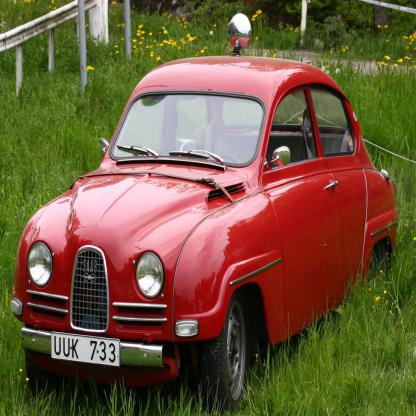Car: (10, 11, 399, 416)
